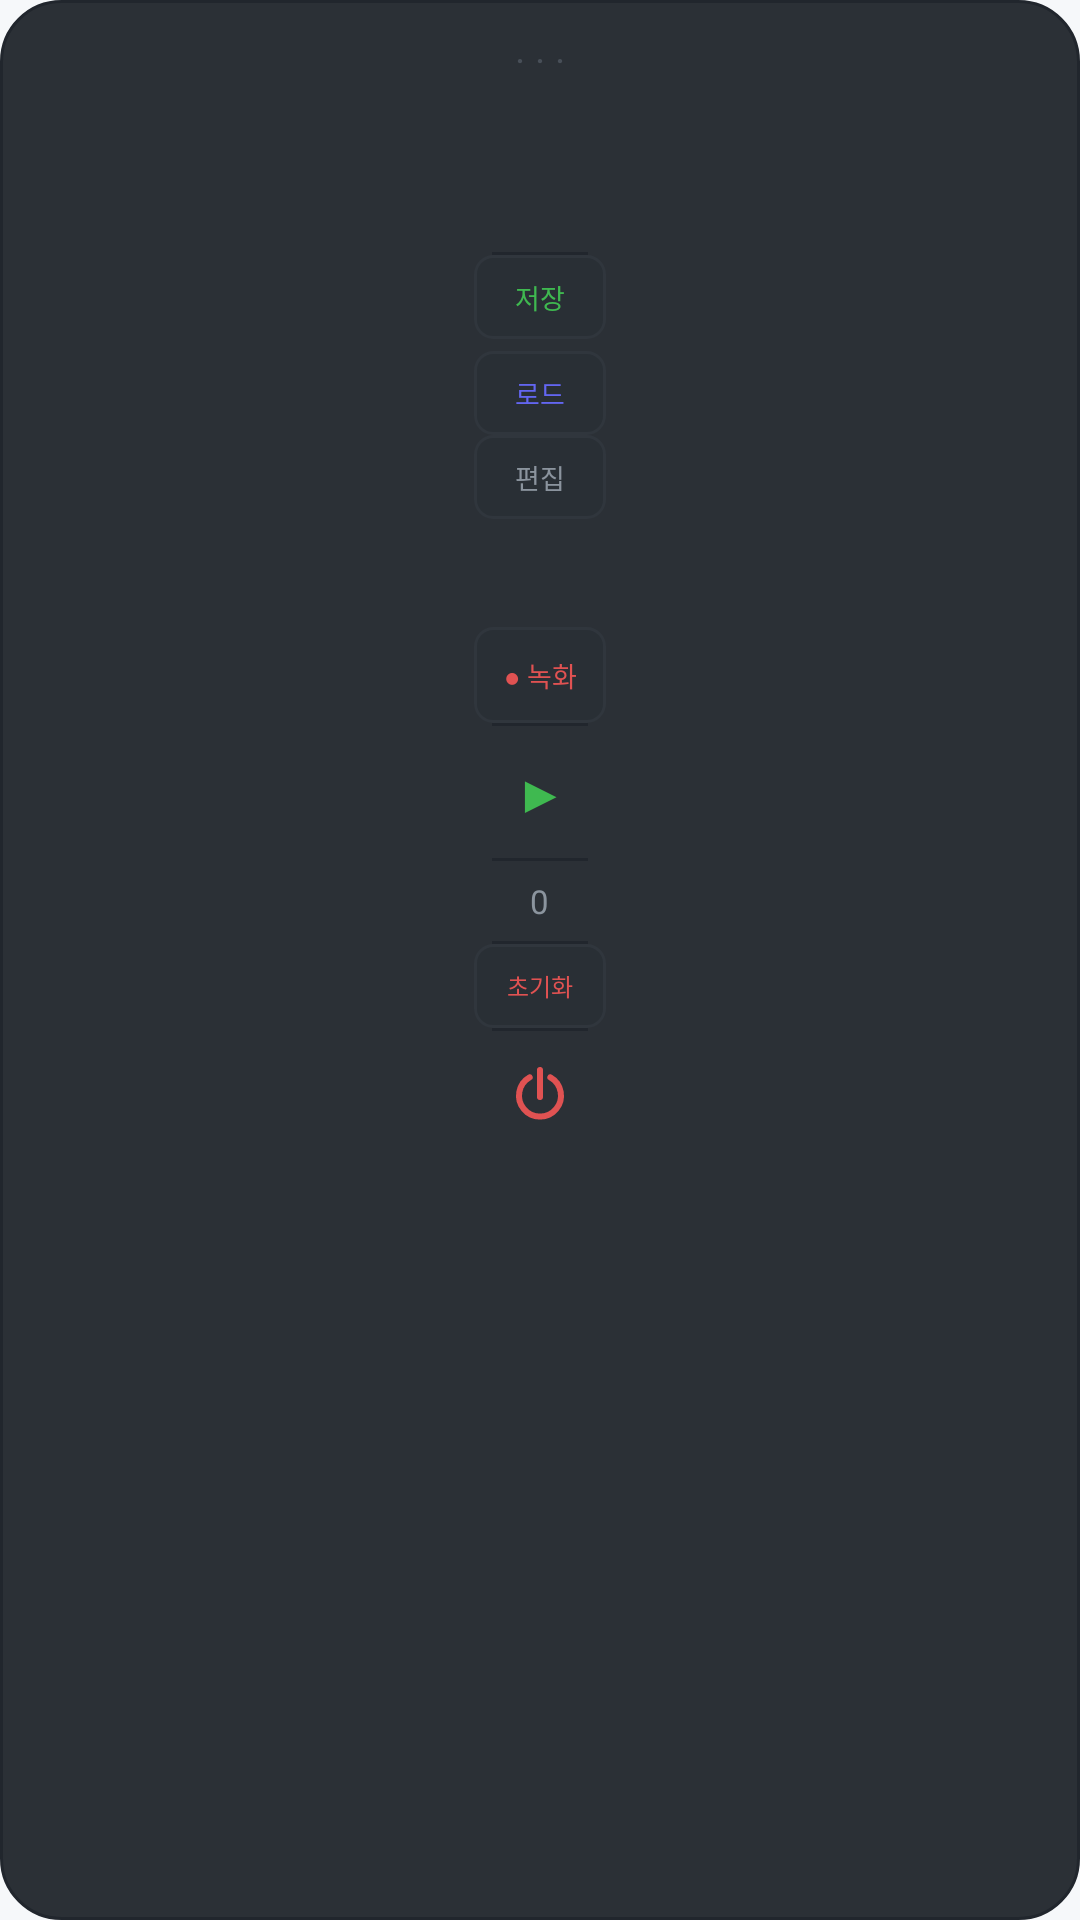

Where icons sit on this 1080px x 1920px app screen, as detection(x1, y1, x2, y2):
앱 종료: detection(516, 1067, 564, 1120)
